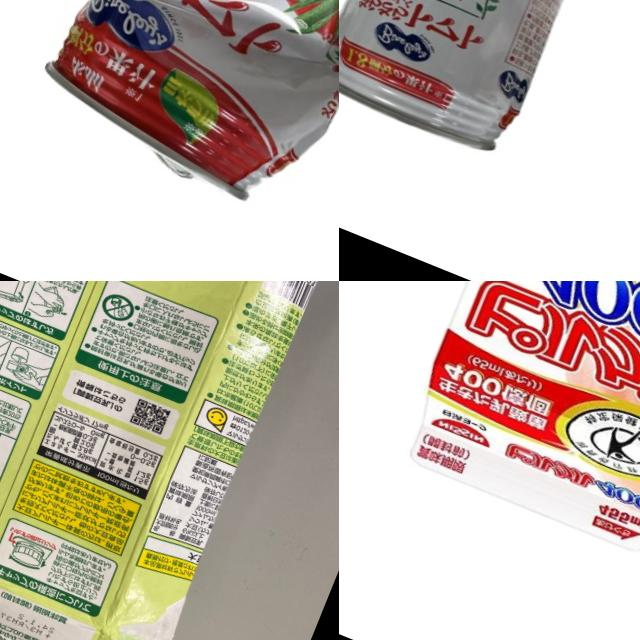Aluminium Foil: (0, 281, 339, 640), (390, 281, 640, 569)
Can: (7, 0, 339, 233), (339, 0, 606, 168)
